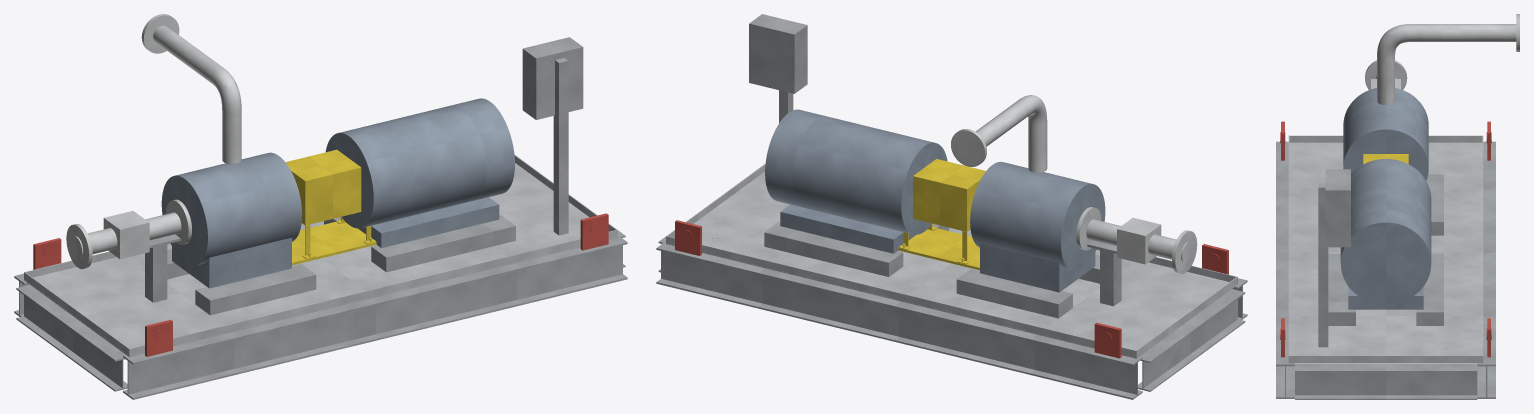
The model's file is pump-skids.glb.
3 renders of one model, left to right at view 1: azimuth 30°, elevation 25°; view 2: azimuth 150°, elevation 25°; view 3: azimuth 270°, elevation 25°, orthographic. The views are drawn at different scales.
Visible parts, largest first — view 1: Equipment(context), BaseFrame, DripTray&Deck, SkidPiping, EquipmentPedestals, CouplingGuard, InstrumentStand, LiftingLugs, Pipe&EquipmentSupports; view 2: Equipment(context), BaseFrame, DripTray&Deck, SkidPiping, EquipmentPedestals, CouplingGuard, InstrumentStand, LiftingLugs, Pipe&EquipmentSupports; view 3: DripTray&Deck, Equipment(context), BaseFrame, SkidPiping, EquipmentPedestals, InstrumentStand, LiftingLugs, CouplingGuard.
Boxes of the visible parts, <box> form: Equipment(context): <box>161,98,514,288</box>; BaseFrame: <box>14,230,627,399</box>; DripTray&Deck: <box>24,155,617,357</box>; SkidPiping: <box>66,14,241,269</box>; EquipmentPedestals: <box>167,215,515,315</box>; CouplingGuard: <box>285,149,376,265</box>; InstrumentStand: <box>522,37,583,235</box>; LiftingLugs: <box>33,213,608,356</box>; Pipe&EquipmentSupports: <box>145,234,180,302</box>; Equipment(context): <box>765,109,1105,292</box>; BaseFrame: <box>656,236,1247,399</box>; DripTray&Deck: <box>666,163,1237,358</box>; SkidPiping: <box>951,95,1197,273</box>; EquipmentPedestals: <box>764,222,1099,318</box>; CouplingGuard: <box>898,159,985,270</box>; InstrumentStand: <box>749,14,807,122</box>; LiftingLugs: <box>675,220,1228,358</box>; Pipe&EquipmentSupports: <box>1087,240,1121,306</box>; DripTray&Deck: <box>1288,135,1483,363</box>; Equipment(context): <box>1340,88,1431,309</box>; BaseFrame: <box>1276,141,1495,399</box>; SkidPiping: <box>1365,14,1519,104</box>; EquipmentPedestals: <box>1328,174,1443,325</box>; InstrumentStand: <box>1318,169,1350,347</box>; LiftingLugs: <box>1280,121,1491,357</box>; CouplingGuard: <box>1363,154,1408,164</box>.
Bounding box in the file's own units: 4.34 × 2.03 × 1.94.
6 materials, 6 textured.
